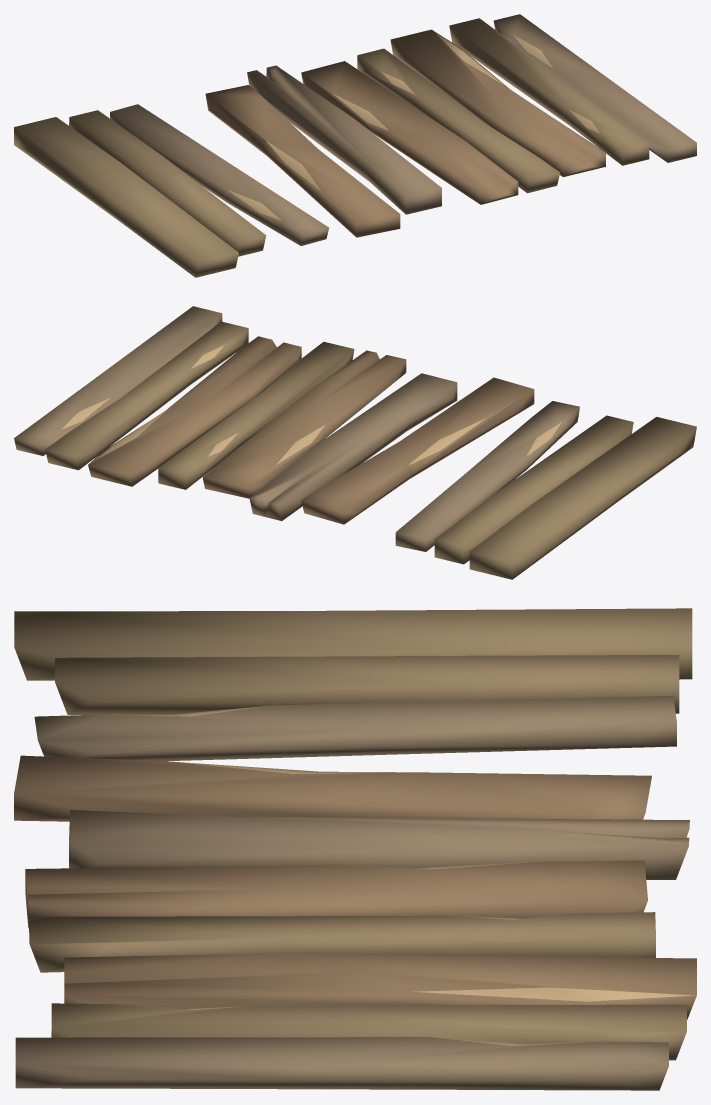
File: rpgpp_lt_wood_path_01b.glb
3 renders of one model, top to bottom at view 1: azimuth 30°, elevation 25°; view 2: azimuth 150°, elevation 25°; view 3: azimuth 270°, elevation 25°, orthographic. The views are drawn at different scales.
Parts seen in each view (by area): view 1: rpgpp_lt_wood_path_01b; view 2: rpgpp_lt_wood_path_01b; view 3: rpgpp_lt_wood_path_01b.
Part boxes in pixels (x1,y1,x2,y2): rpgpp_lt_wood_path_01b: [14, 14, 696, 277]; rpgpp_lt_wood_path_01b: [14, 306, 696, 579]; rpgpp_lt_wood_path_01b: [14, 608, 696, 1090].
Size of the model in its own units: 4.47 by 0.1648 by 2.81.
Materials: 1 (1 with a texture image).
